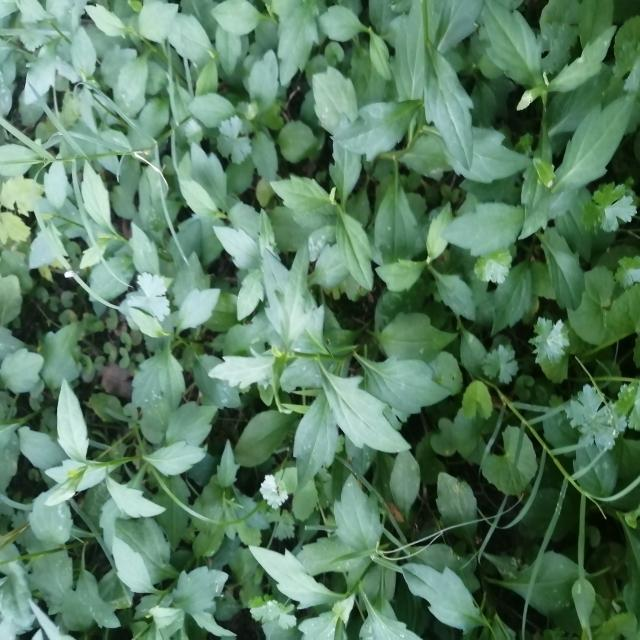Indian aster: (193, 228, 393, 486), (10, 383, 204, 565)
